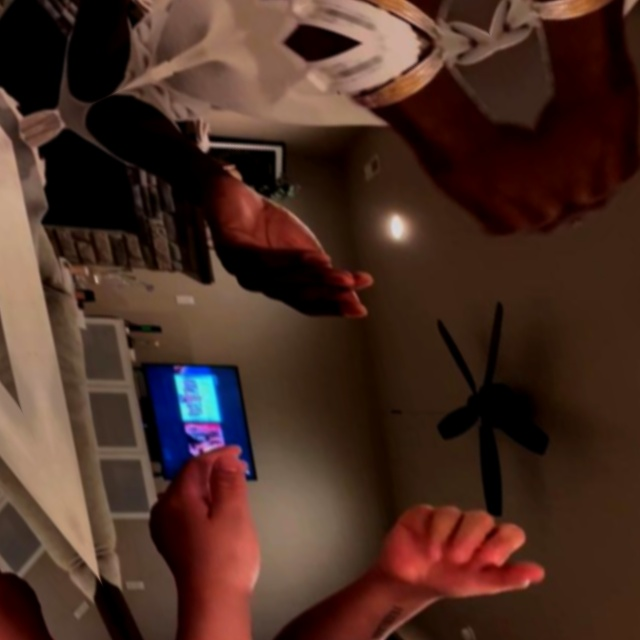Rock: (397, 83, 589, 302)
